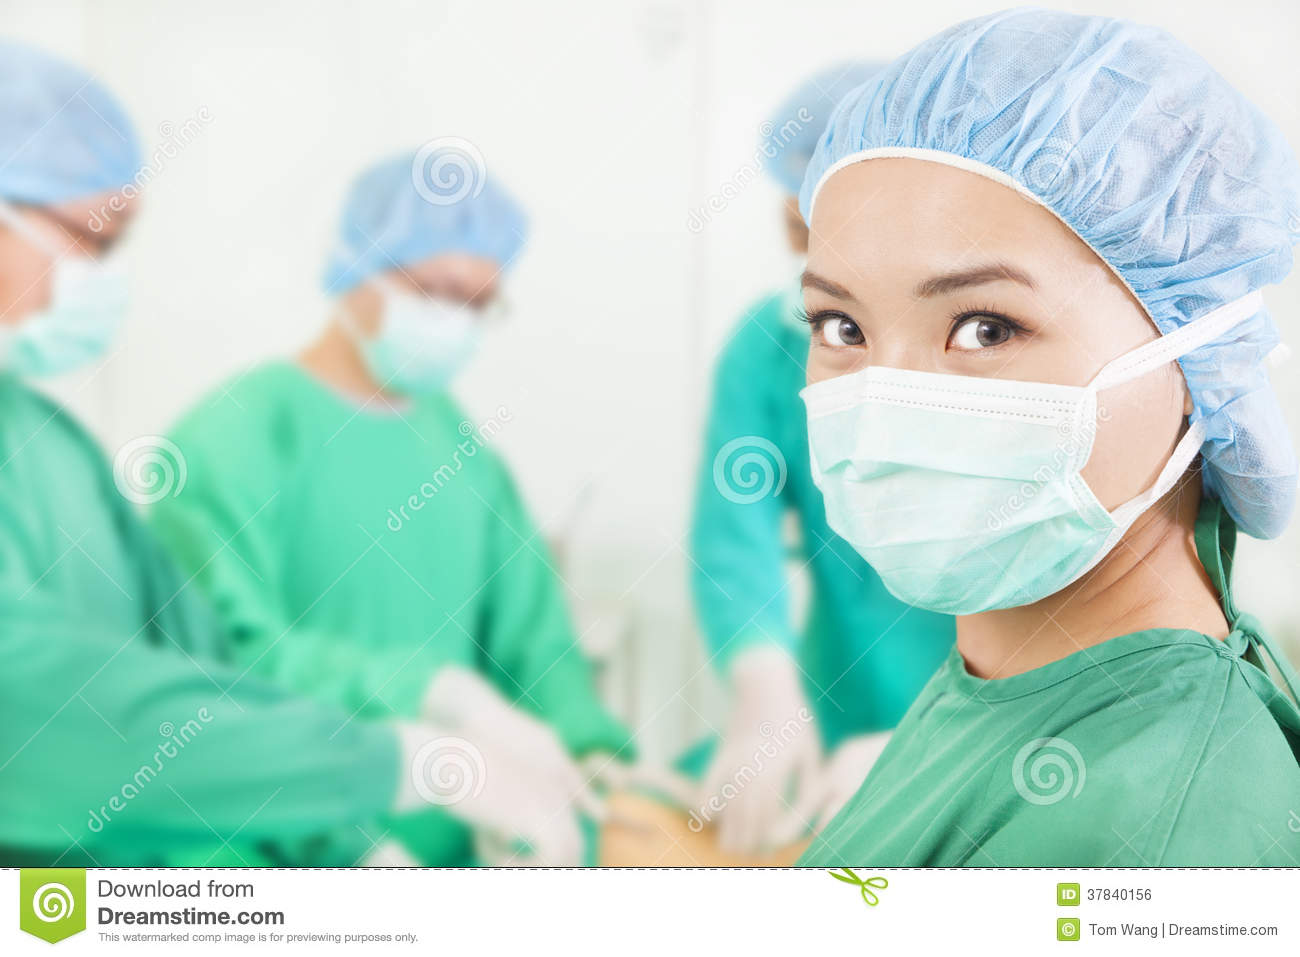mask: (810, 394, 1106, 602)
